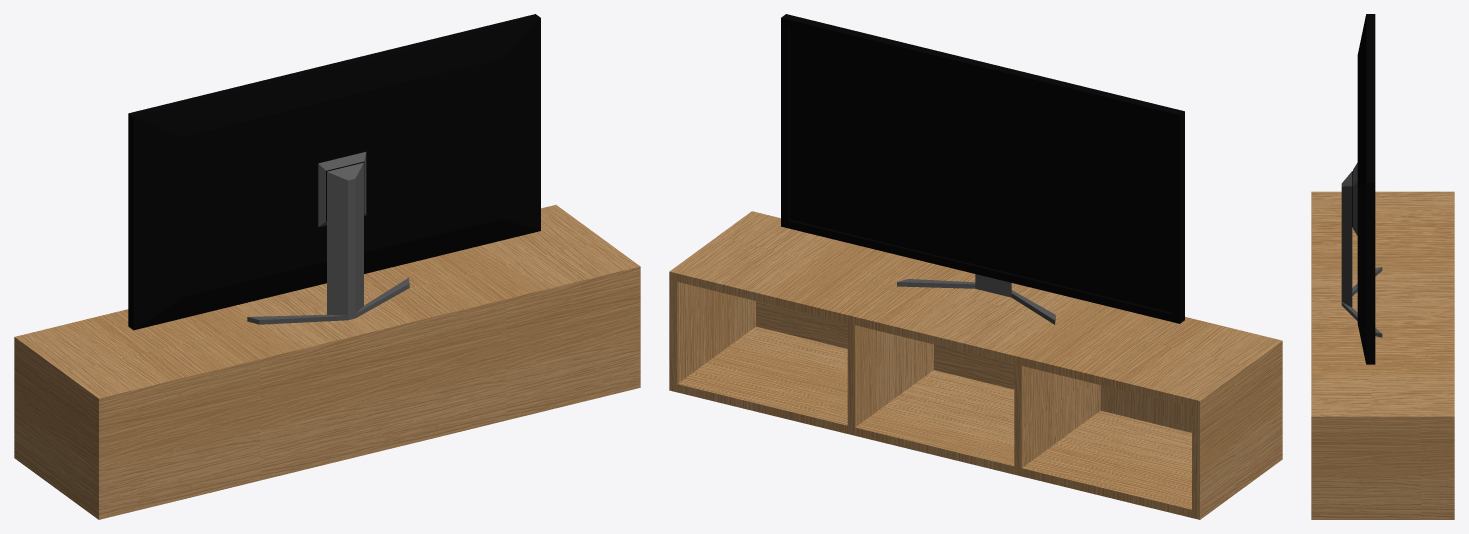
Rendered from tv_stand.dae.
3 views of the same model, side by side, from view 1: azimuth 30°, elevation 25°; view 2: azimuth 150°, elevation 25°; view 3: azimuth 270°, elevation 25° (orthographic). The views are drawn at different scales.
Parts seen in each view (by area): view 1: Cube.001, Cube; view 2: Cube.001, Cube; view 3: Cube.001, Cube.
Part boxes in pixels (<box>): Cube.001: <box>14,205,640,519</box>; Cube: <box>128,14,540,330</box>; Cube.001: <box>669,211,1282,519</box>; Cube: <box>781,14,1184,324</box>; Cube.001: <box>1311,191,1454,519</box>; Cube: <box>1341,14,1382,364</box>.
Bounding box in the file's own units: 31.29 × 8.44 × 20.02.
Materials: 4 (1 with a texture image).
